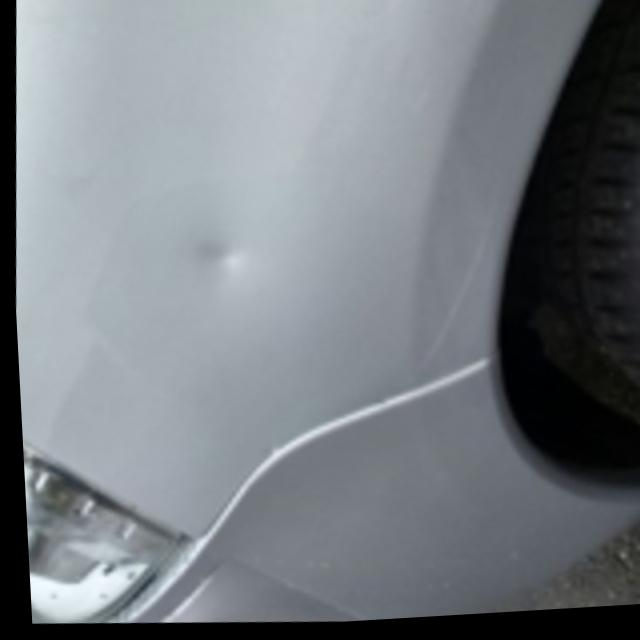Dent: (158, 202, 272, 314)
